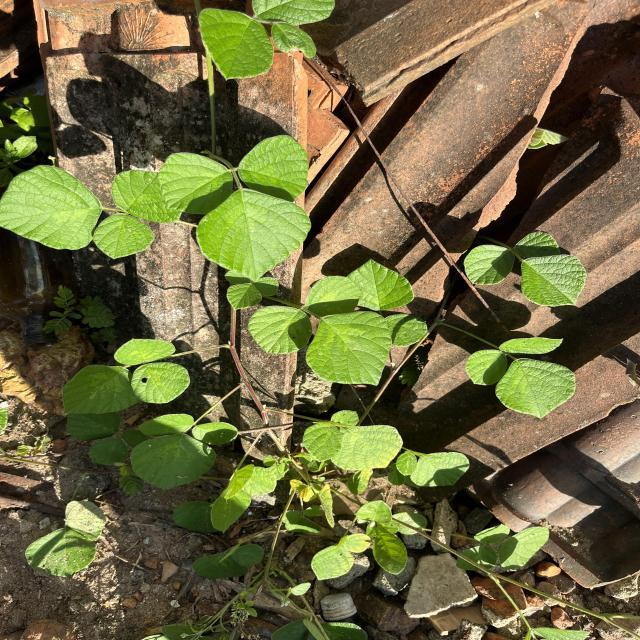Pseudarthria viscida: (157, 133, 313, 284), (0, 164, 184, 262), (245, 274, 394, 388), (61, 337, 192, 415), (462, 230, 588, 308), (464, 336, 578, 420), (129, 412, 239, 492)
